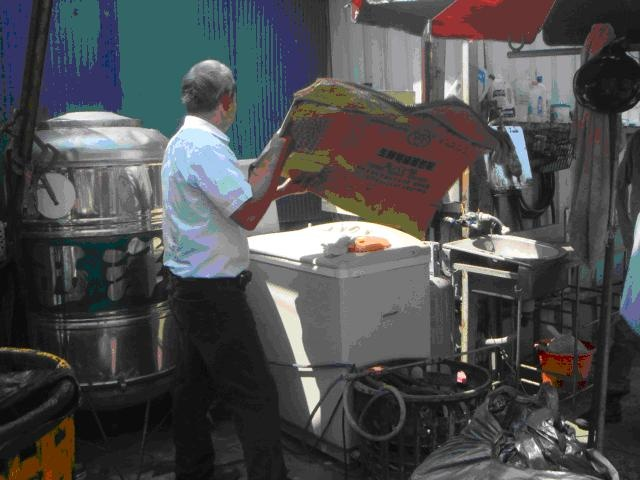bucket: (532, 337, 598, 387)
plastic_bag: (448, 398, 571, 480)
washing_machine: (245, 220, 431, 466)
water_tower: (14, 111, 184, 405)
